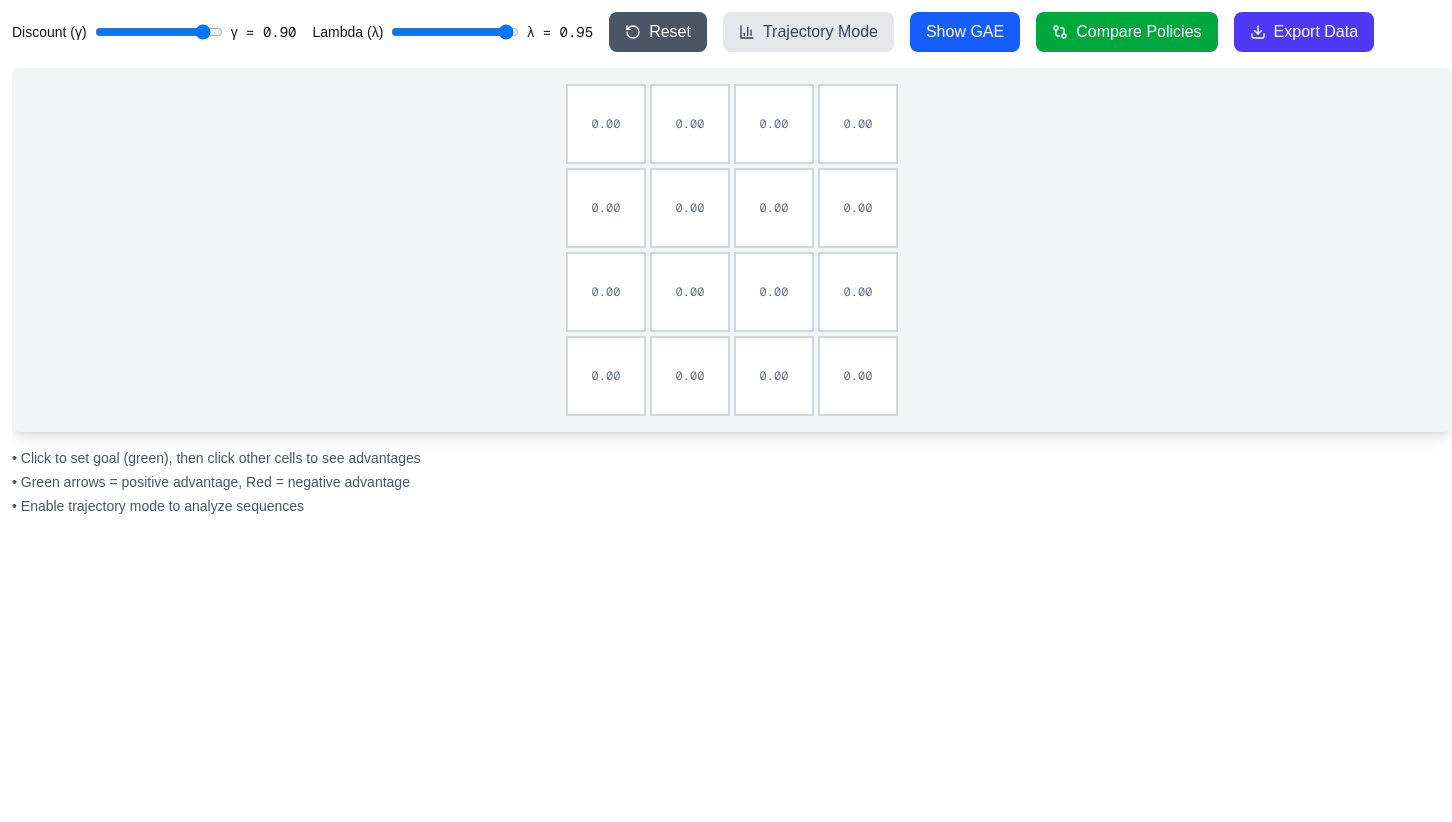
Test case: AdvantageFunctionVisualizer Component › should toggle GAE visualization
# Enable trajectory mode and create a trajectory
Click the button "Trajectory Mode". click: (808, 32)
box: [723,12,894,52]
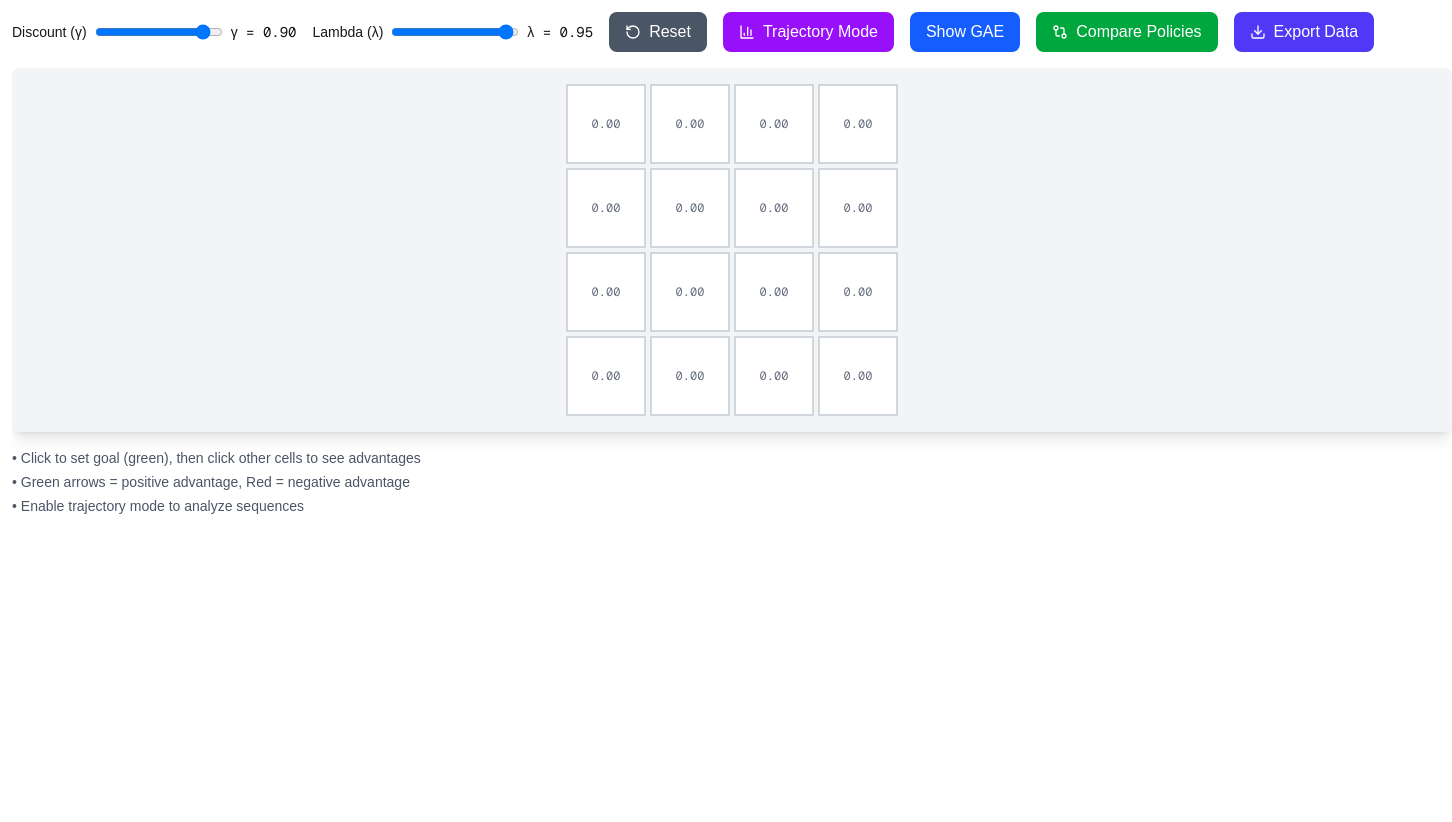
# Create trajectory
Click the element with test id "advantage-cell-0-0". click: (606, 124)
box: [566,84,646,164]
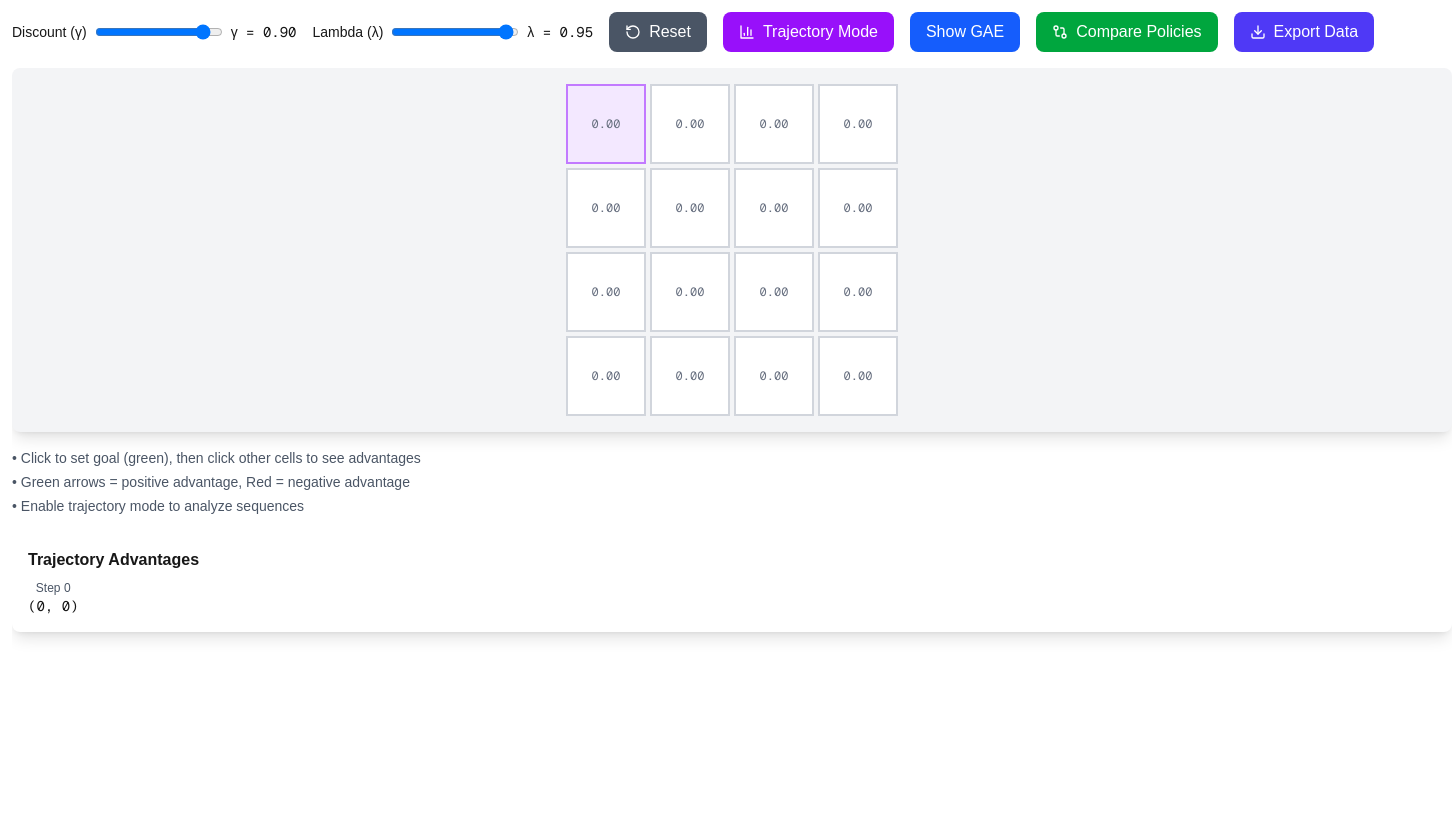
Click the element with test id "advantage-cell-1-0". click: (690, 124)
box: [650,84,730,164]
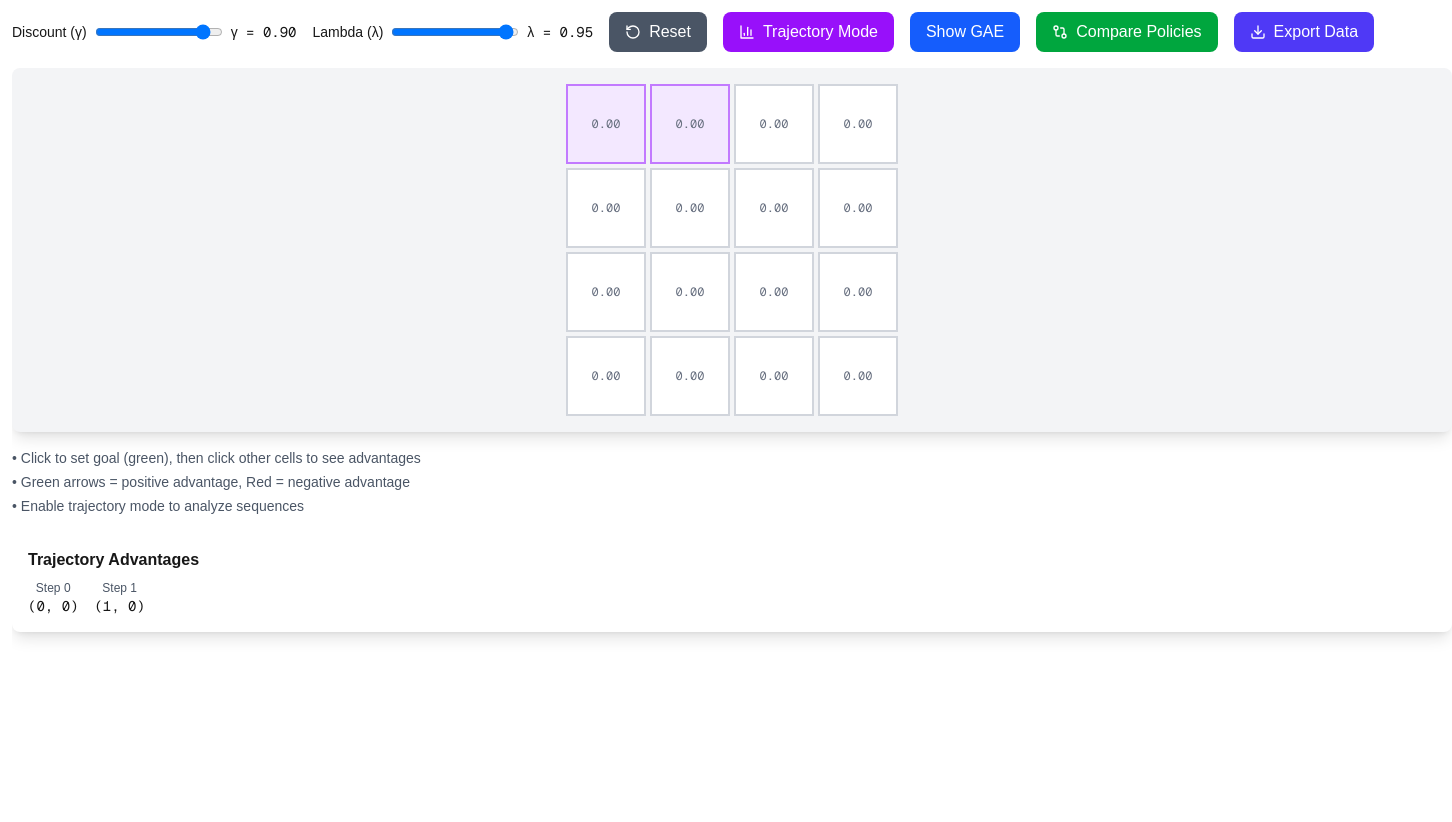
# Now show GAE
Click the button "Show GAE". click: (965, 32)
box: [910,12,1020,52]
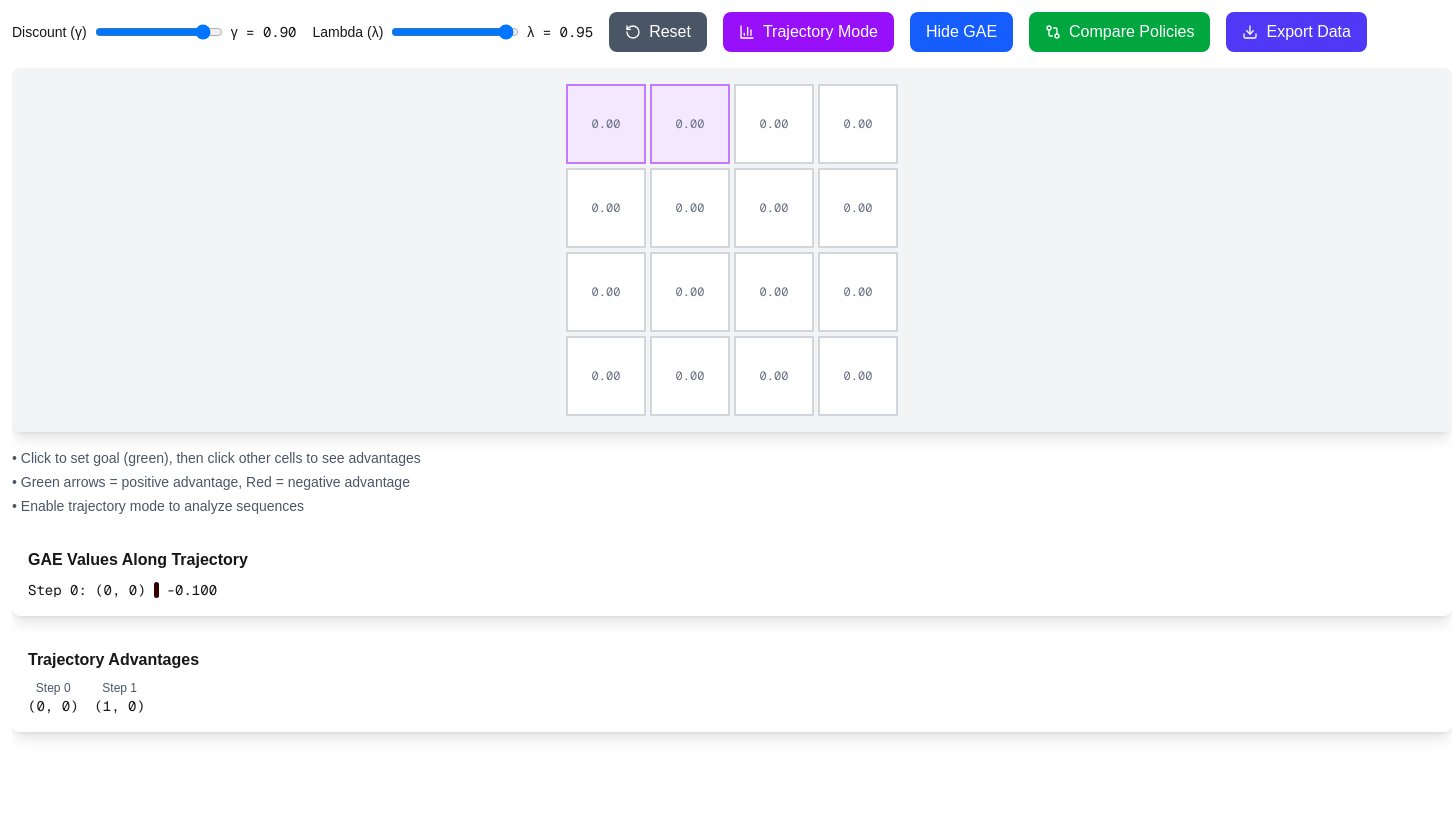
Expected: the element with test id "gae-panel" is shown, [12,532,1451,616]
